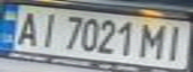0: (78, 15, 100, 53)
1: (115, 18, 139, 56)
2: (97, 16, 118, 55)
7: (57, 12, 84, 52)
A: (9, 8, 42, 47)
I: (160, 21, 190, 61), (33, 10, 63, 48)
M: (139, 20, 169, 61)
